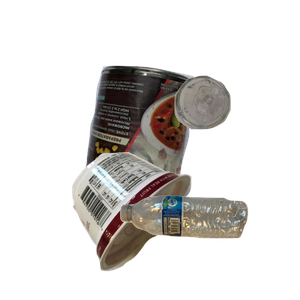glass: (172, 73, 300, 195)
metal: (78, 63, 266, 243)
plastic: (118, 193, 300, 300)
trash: (70, 149, 254, 300)
